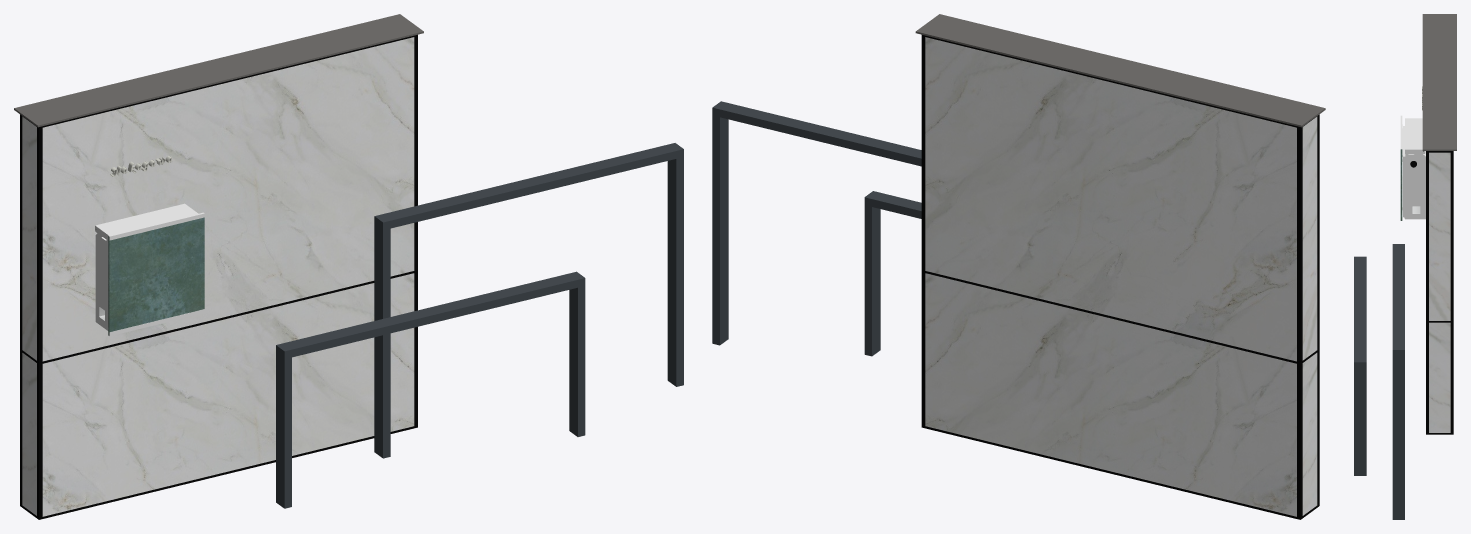
The model's file is abc3-m_aristonmarble.fbx.
3 renders of one model, left to right at view 1: azimuth 30°, elevation 25°; view 2: azimuth 150°, elevation 25°; view 3: azimuth 270°, elevation 25°, orthographic. The views are drawn at different scales.
Visible parts, largest first — view 1: abc3-m_plasterblack; view 2: abc3-m_plasterblack; view 3: abc3-m_plasterblack.
Boxes of the visible parts, box(x1,y1,x2,y2) form: abc3-m_plasterblack: box(14, 14, 683, 519); abc3-m_plasterblack: box(712, 14, 1325, 519); abc3-m_plasterblack: box(1354, 14, 1456, 519).
Bounding box in the file's own units: 249 × 151 × 49.35.
11 materials, 5 textured.
